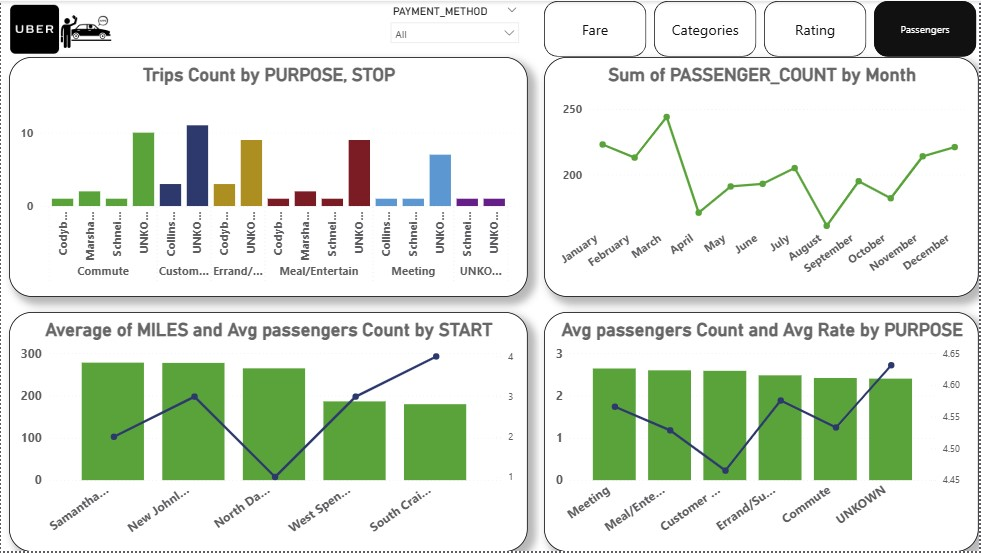

Layout of this report page (visuals, bound fields, positions):
{"tool":"powerbi","page":{"name":"Passengers","canvas":[1280,720],"ordinal":3},"visuals":[{"type":"columnChart","title":"Trips Count by PURPOSE, STOP ","fields":{"Category":["cleaned_uber_data1.PURPOSE","cleaned_uber_data1.STOP"],"Y":["MyMesaures.Trips Count"],"Series":["cleaned_uber_data1.PURPOSE"]},"box":[10.1,73.9,678.6,314.1],"z":0},{"type":"lineStackedColumnComboChart","fields":{"Y":["cleaned_uber_data1.MILES"],"Y2":["MyMesaures.Avg passengers Count"],"Category":["cleaned_uber_data1.START"]},"box":[10.1,406.5,678.6,314.1],"z":1000},{"type":"lineClusteredColumnComboChart","fields":{"Category":["cleaned_uber_data1.PURPOSE"],"Y":["MyMesaures.Avg passengers Count"],"Y2":["MyMesaures.Avg Rate"]},"box":[710.6,406.5,569.4,314.1],"z":2000},{"type":"pageNavigator","box":[710.6,0,569.4,73.9],"z":3000},{"type":"lineChart","fields":{"Category":["Dimdate.Date.Variation.Date Hierarchy.Year","Dimdate.Date.Variation.Date Hierarchy.Quarter","Dimdate.Date.Variation.Date Hierarchy.Month","Dimdate.Date.Variation.Date Hierarchy.Day"],"Y":["cleaned_uber_data1.PASSENGER_COUNT"]},"box":[710.6,73.9,569.4,314.1],"z":4000},{"type":"image","box":[0,0,87.3,73.9],"z":5000},{"type":"image","box":[73.9,0,75.6,80.6],"z":6000},{"type":"slicer","fields":{"Values":["cleaned_uber_data1.PAYMENT_METHOD"]},"box":[500.6,0,188.1,62.2],"z":7000}]}

Visuals, with their boxes in screenshot pixels (x1, y1, x2, y2), scaled from the page's 1280x720 canvas onto the 981x553 screenshot:
"Trips Count by PURPOSE, STOP " columnChart: {"x1": 8, "y1": 57, "x2": 528, "y2": 298}
lineStackedColumnComboChart - cleaned_uber_data1.MILES x MyMesaures.Avg passengers Count: {"x1": 8, "y1": 312, "x2": 528, "y2": 552}
lineClusteredColumnComboChart - cleaned_uber_data1.PURPOSE x MyMesaures.Avg passengers Count: {"x1": 545, "y1": 312, "x2": 980, "y2": 552}
pageNavigator: {"x1": 545, "y1": 0, "x2": 980, "y2": 57}
lineChart - Dimdate.Date.Variation.Date Hierarchy.Year x Dimdate.Date.Variation.Date Hierarchy.Quarter: {"x1": 545, "y1": 57, "x2": 980, "y2": 298}
image: {"x1": 0, "y1": 0, "x2": 67, "y2": 57}
image: {"x1": 57, "y1": 0, "x2": 115, "y2": 62}
slicer - cleaned_uber_data1.PAYMENT_METHOD: {"x1": 384, "y1": 0, "x2": 528, "y2": 48}
